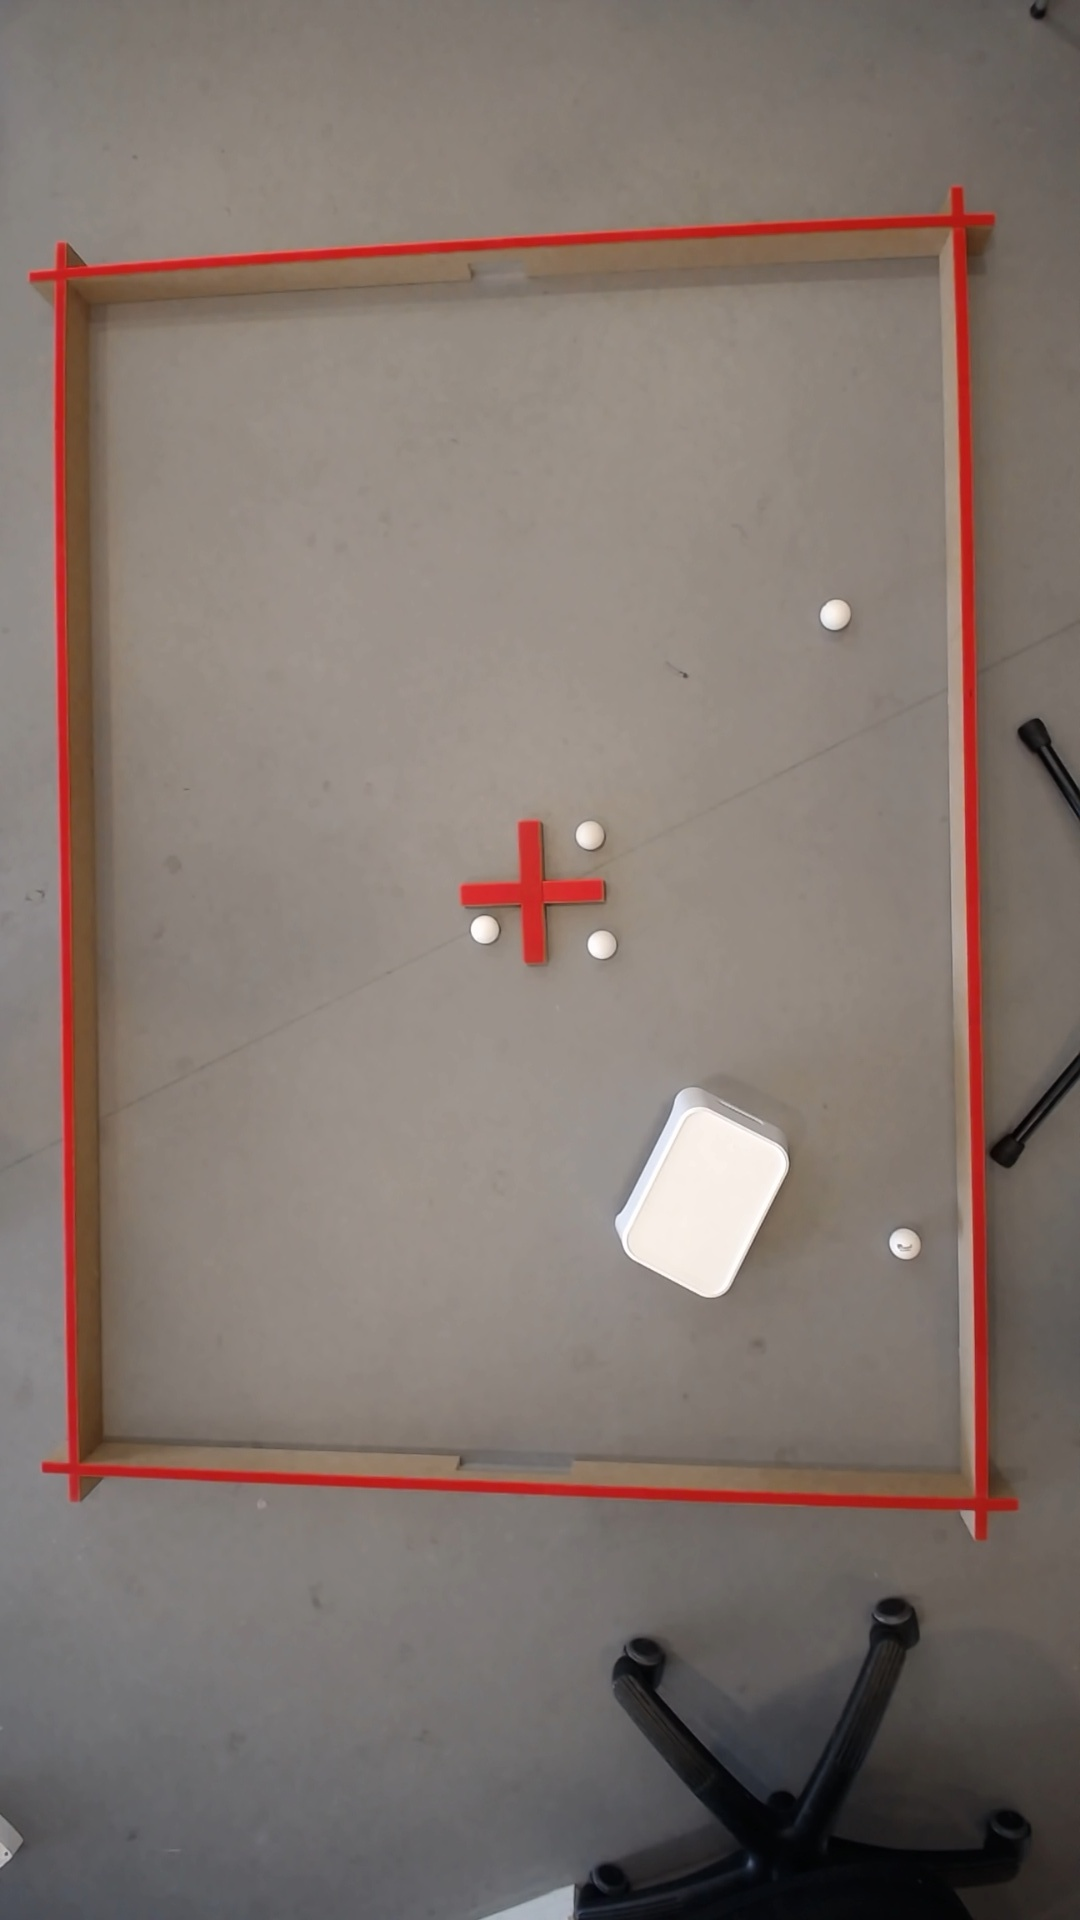balls: (600, 1088, 798, 1304), (884, 1224, 922, 1263), (815, 593, 851, 633), (583, 927, 615, 961), (469, 915, 495, 943)
car: (575, 822, 599, 849)
